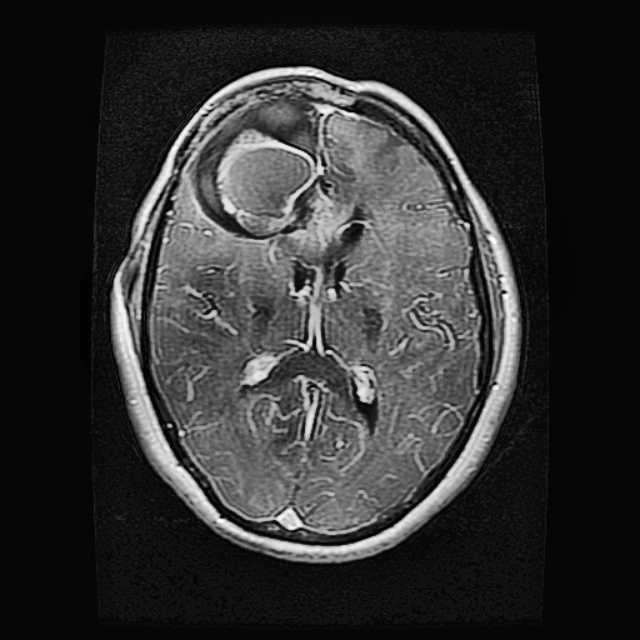Meningioma: (187, 98, 353, 239)
